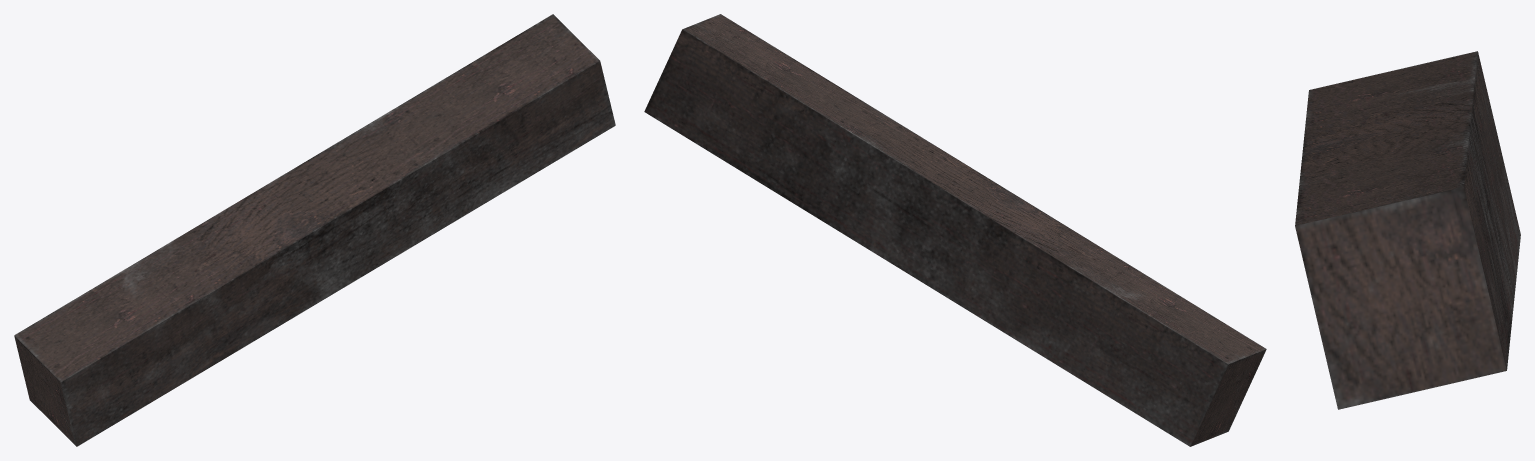
File: BoxWoodB.glb
3 renders of one model, left to right at view 1: azimuth 30°, elevation 25°; view 2: azimuth 150°, elevation 25°; view 3: azimuth 270°, elevation 25°, orthographic. The views are drawn at different scales.
Parts seen in each view (by area): view 1: BoxWoodB; view 2: BoxWoodB; view 3: BoxWoodB.
Part boxes in pixels (x1,y1,x2,y2): BoxWoodB: (14,14,615,446); BoxWoodB: (644,14,1266,446); BoxWoodB: (1295,51,1520,409).
Size of the model in its own units: 1.17 by 0.57 by 0.2016.
Materials: 1 (1 with a texture image).
